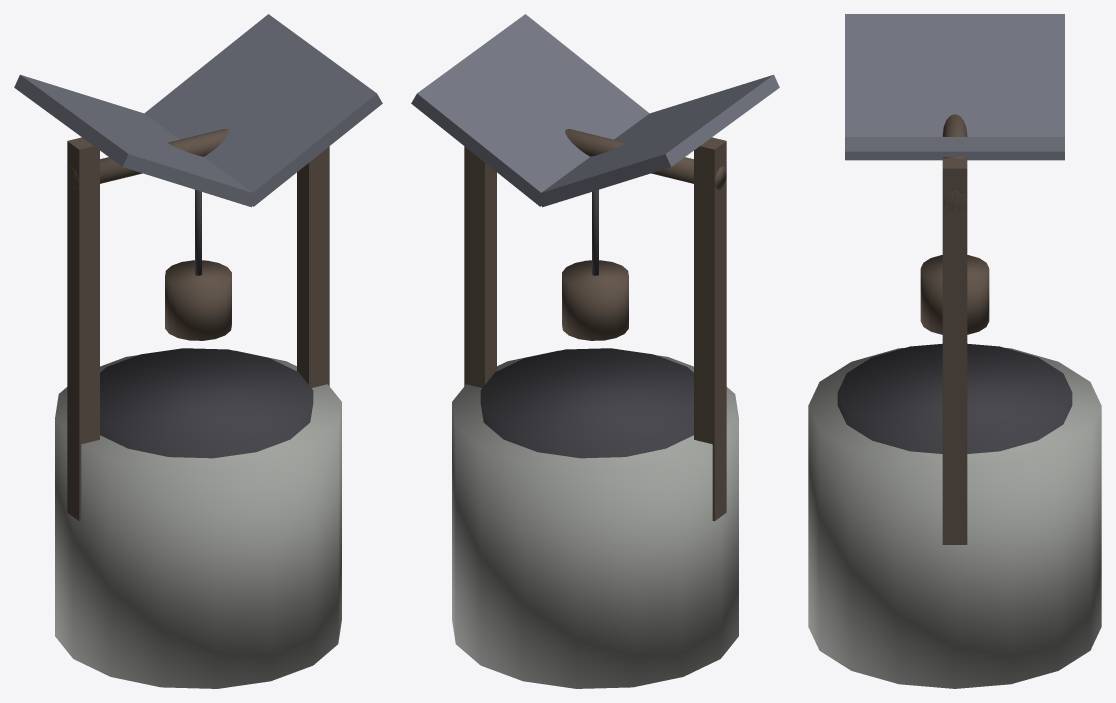
Rendered from prop_ido.glb.
The picture shows the model from 3 angles, left to right: view 1: azimuth 30°, elevation 25°; view 2: azimuth 150°, elevation 25°; view 3: azimuth 270°, elevation 25°; orthographic projection.
Parts seen in each view (by area): view 1: ido; view 2: ido; view 3: ido.
Boxes of the visible parts, bbox=[...] form: ido: bbox=[14, 14, 382, 688]; ido: bbox=[411, 14, 779, 688]; ido: bbox=[808, 14, 1101, 688].
Bounding box in the file's own units: 1.25 × 2.49 × 1.2.
